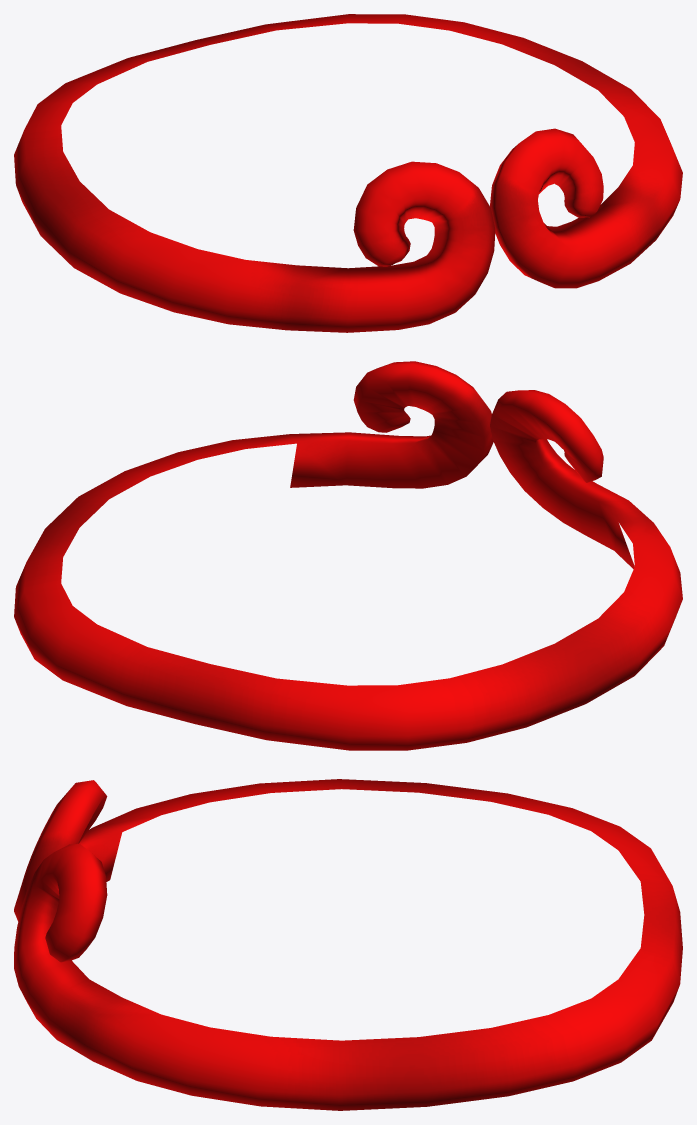
File: M_HeadringB.glb
3 renders of one model, top to bottom at view 1: azimuth 30°, elevation 25°; view 2: azimuth 150°, elevation 25°; view 3: azimuth 270°, elevation 25°, orthographic. The views are drawn at different scales.
Visible parts, largest first — view 1: SM_Headring; view 2: SM_Headring; view 3: SM_Headring.
Boxes of the visible parts, <box> form: SM_Headring: <box>14,14,682,332</box>; SM_Headring: <box>14,361,682,750</box>; SM_Headring: <box>14,779,682,1110</box>.
Size of the model in its own units: 1.2 by 0.2865 by 1.15.
1 material, 1 textured.
